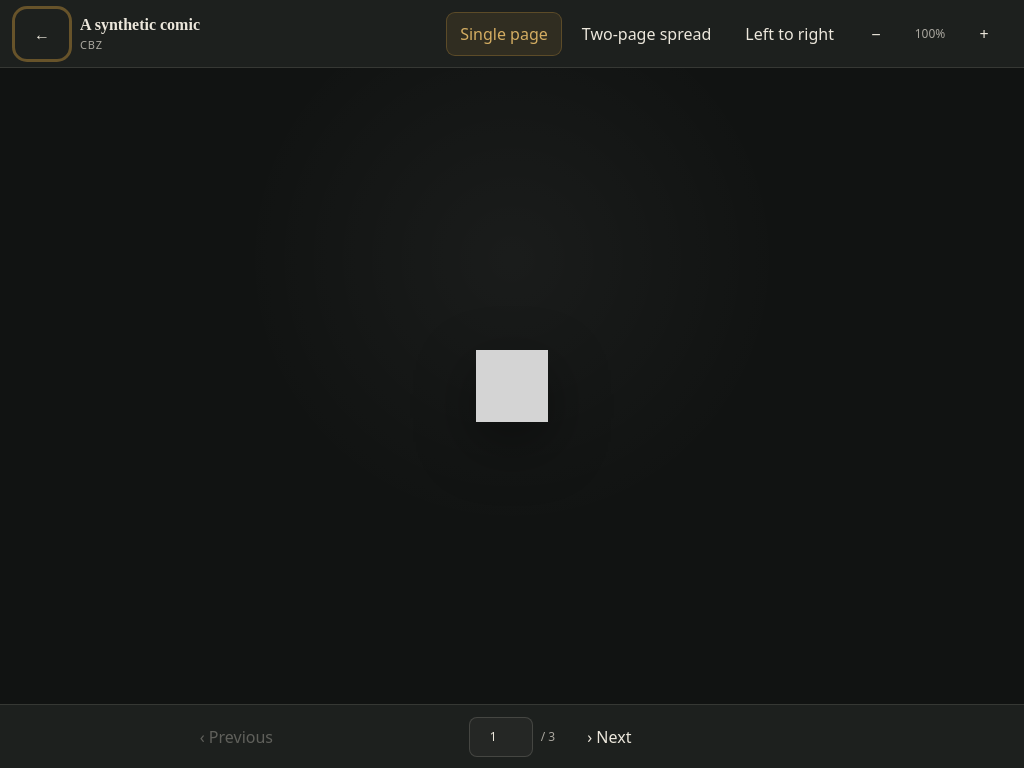
Test: SpecialReaderScreen › switches comic reading direction without leaving the viewer
Click the button "Left to right": point(790, 34) [731,12,848,56]
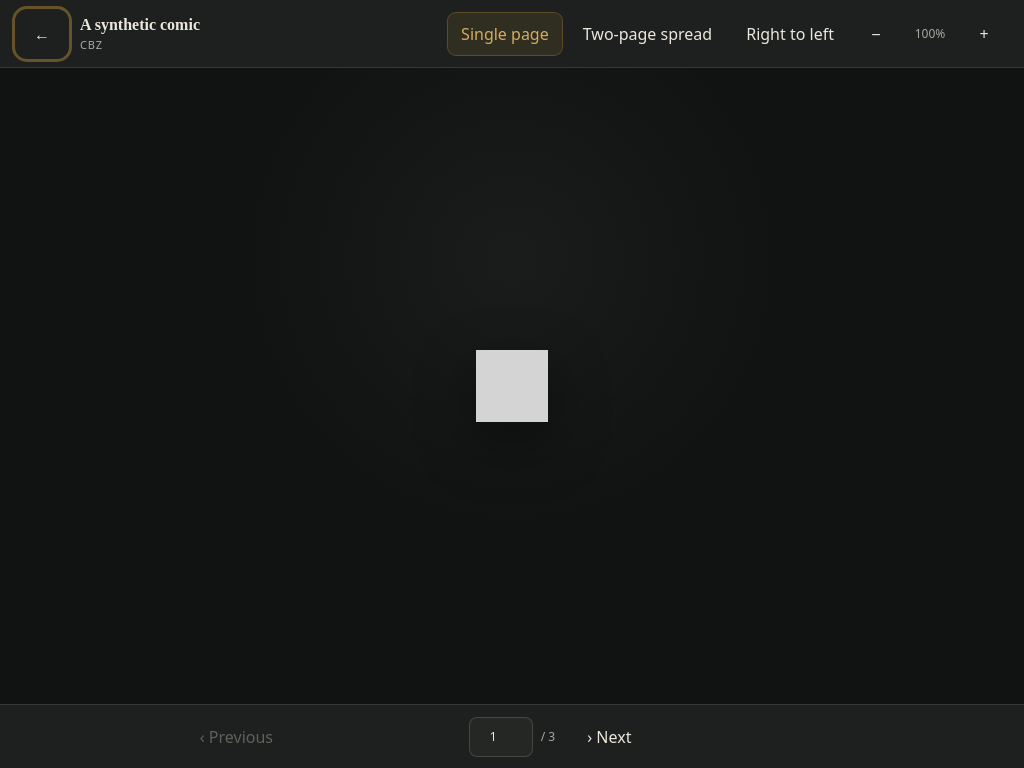
Result: the button "Right to left" is shown at [732,12,848,56]
